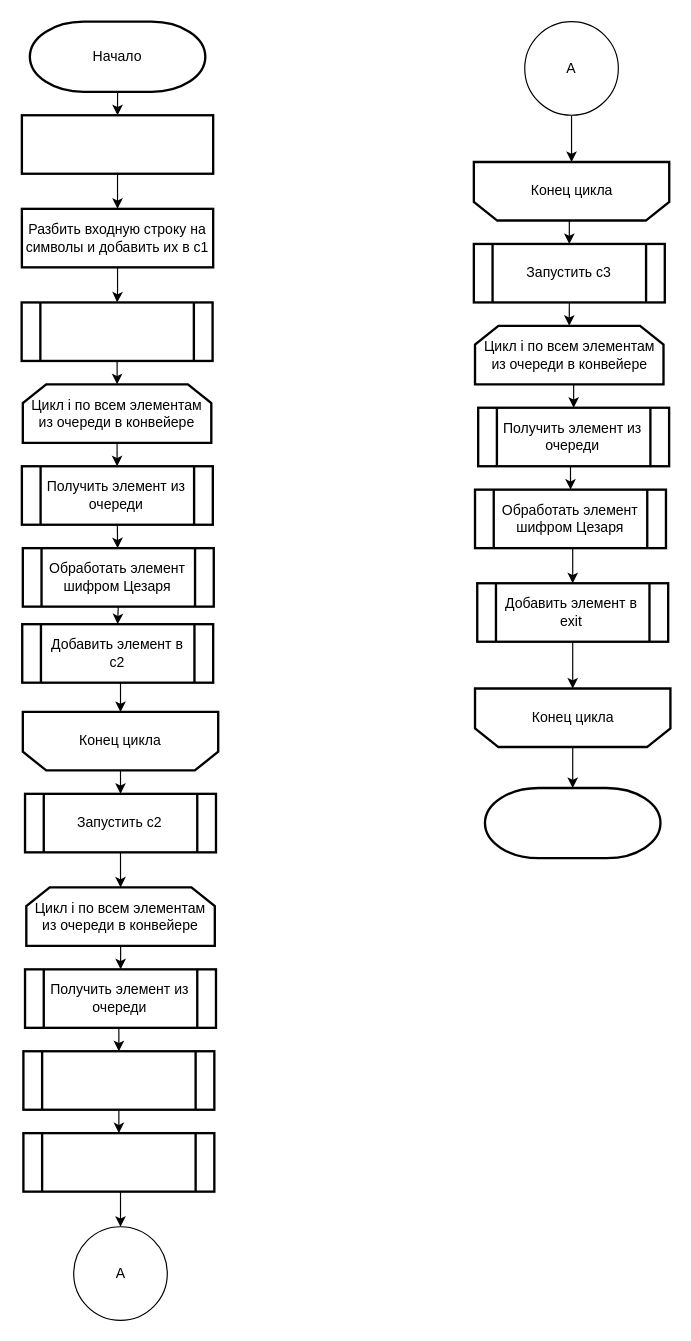
This 691x1341 diagram has some shape labels left out. Here are the shapes that lost their labels. From the top down, the centre of each, then its label:
At pixel 117 143: "Создать конвейерные ленты c1, c2, c3, exit".
At pixel 116 331: "Запустить c1".
At pixel 572 822: "Конец".
At pixel 118 1079: "Обработать элемент XOR шифром".
At pixel 118 1161: "Добавить элемент в c3".
